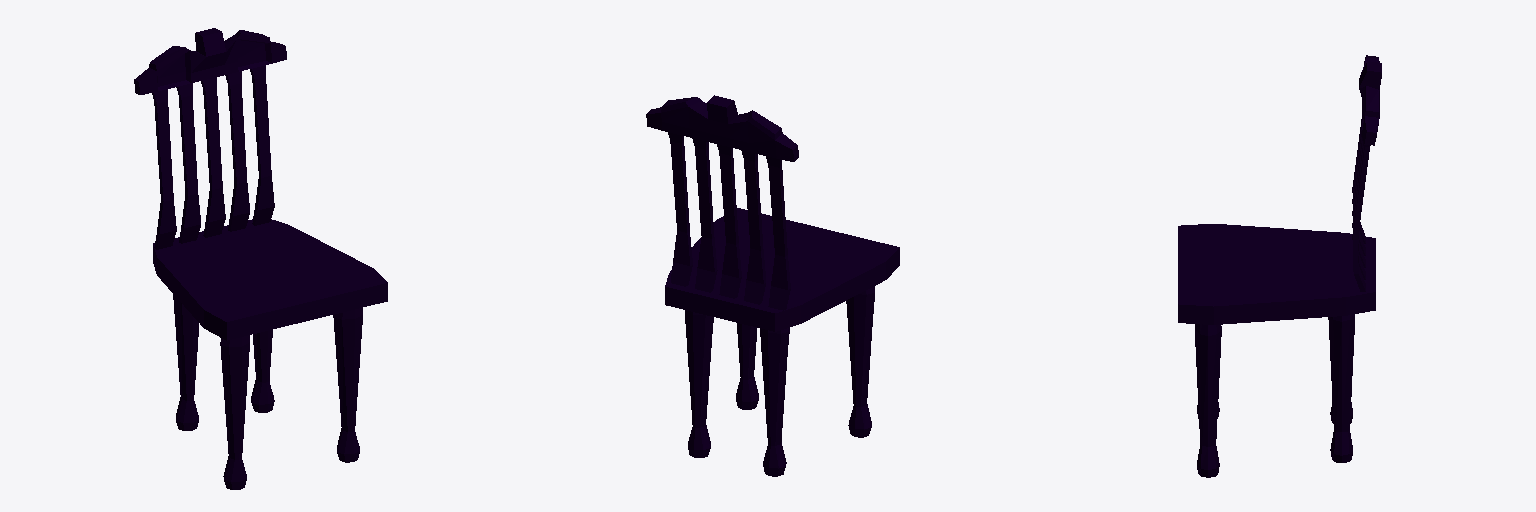
Rendered from Texture_Chair.obj.
The picture shows the model from 3 angles: view 1: azimuth 30°, elevation 25°; view 2: azimuth 150°, elevation 25°; view 3: azimuth 270°, elevation 25°; orthographic projection.
Parts seen in each view (by area): view 1: Chair_Seat; view 2: Chair_Seat; view 3: Chair_Seat.
Part boxes in pixels (x1,y1,x2,y2): Chair_Seat: (134, 28, 387, 489); Chair_Seat: (646, 95, 899, 476); Chair_Seat: (1178, 55, 1381, 477).
Bounding box in the file's own units: 4.51 × 9.65 × 4.71.